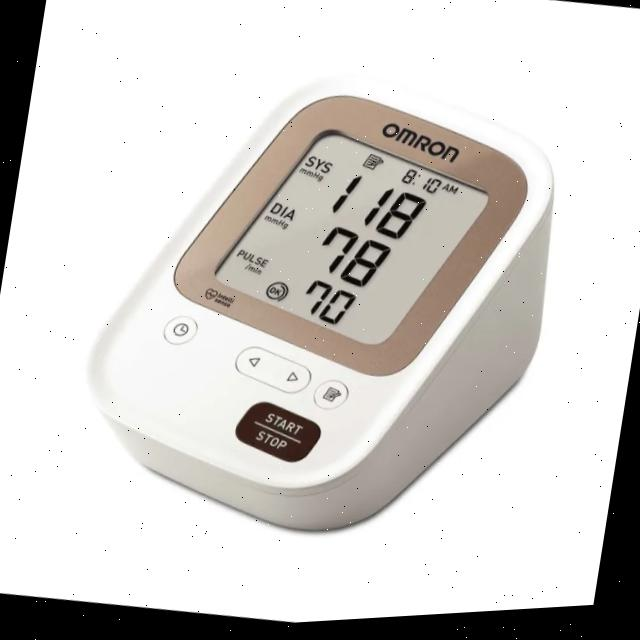dia: (296, 218, 402, 302)
pul: (286, 271, 364, 337)
ssd: (212, 96, 489, 383)
sys: (323, 168, 437, 255)
